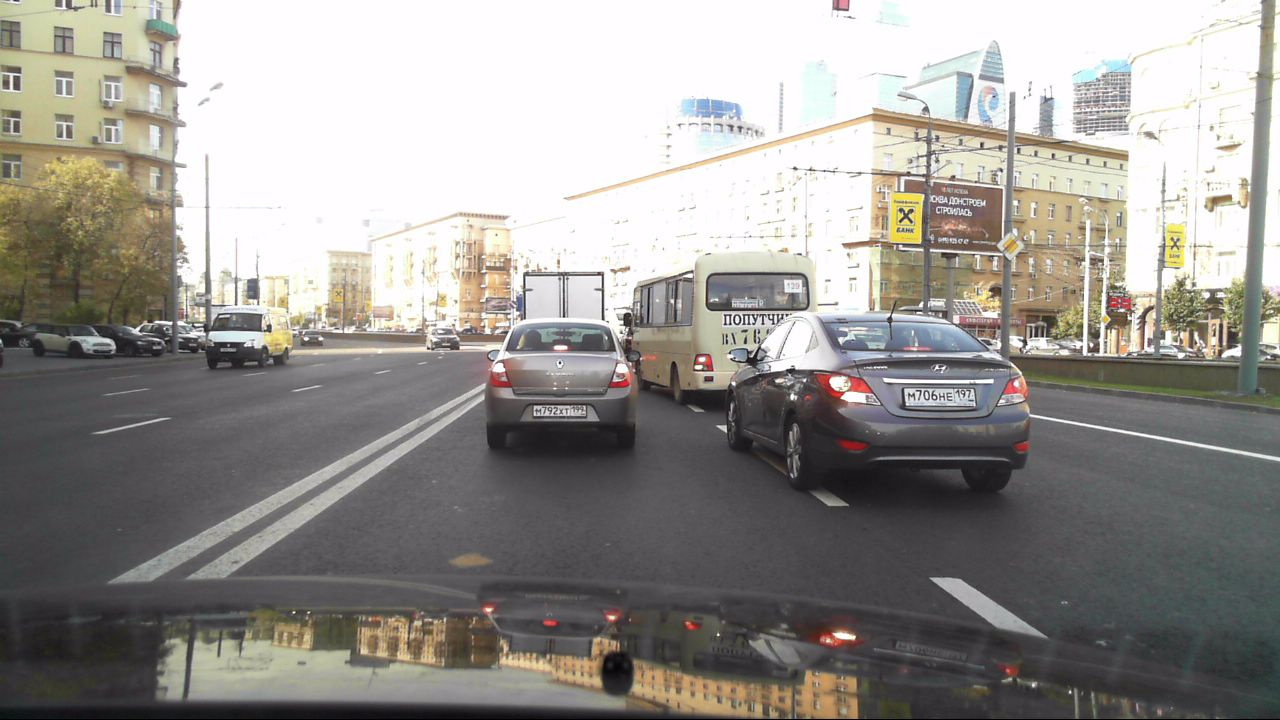main road: (995, 230, 1024, 261)
